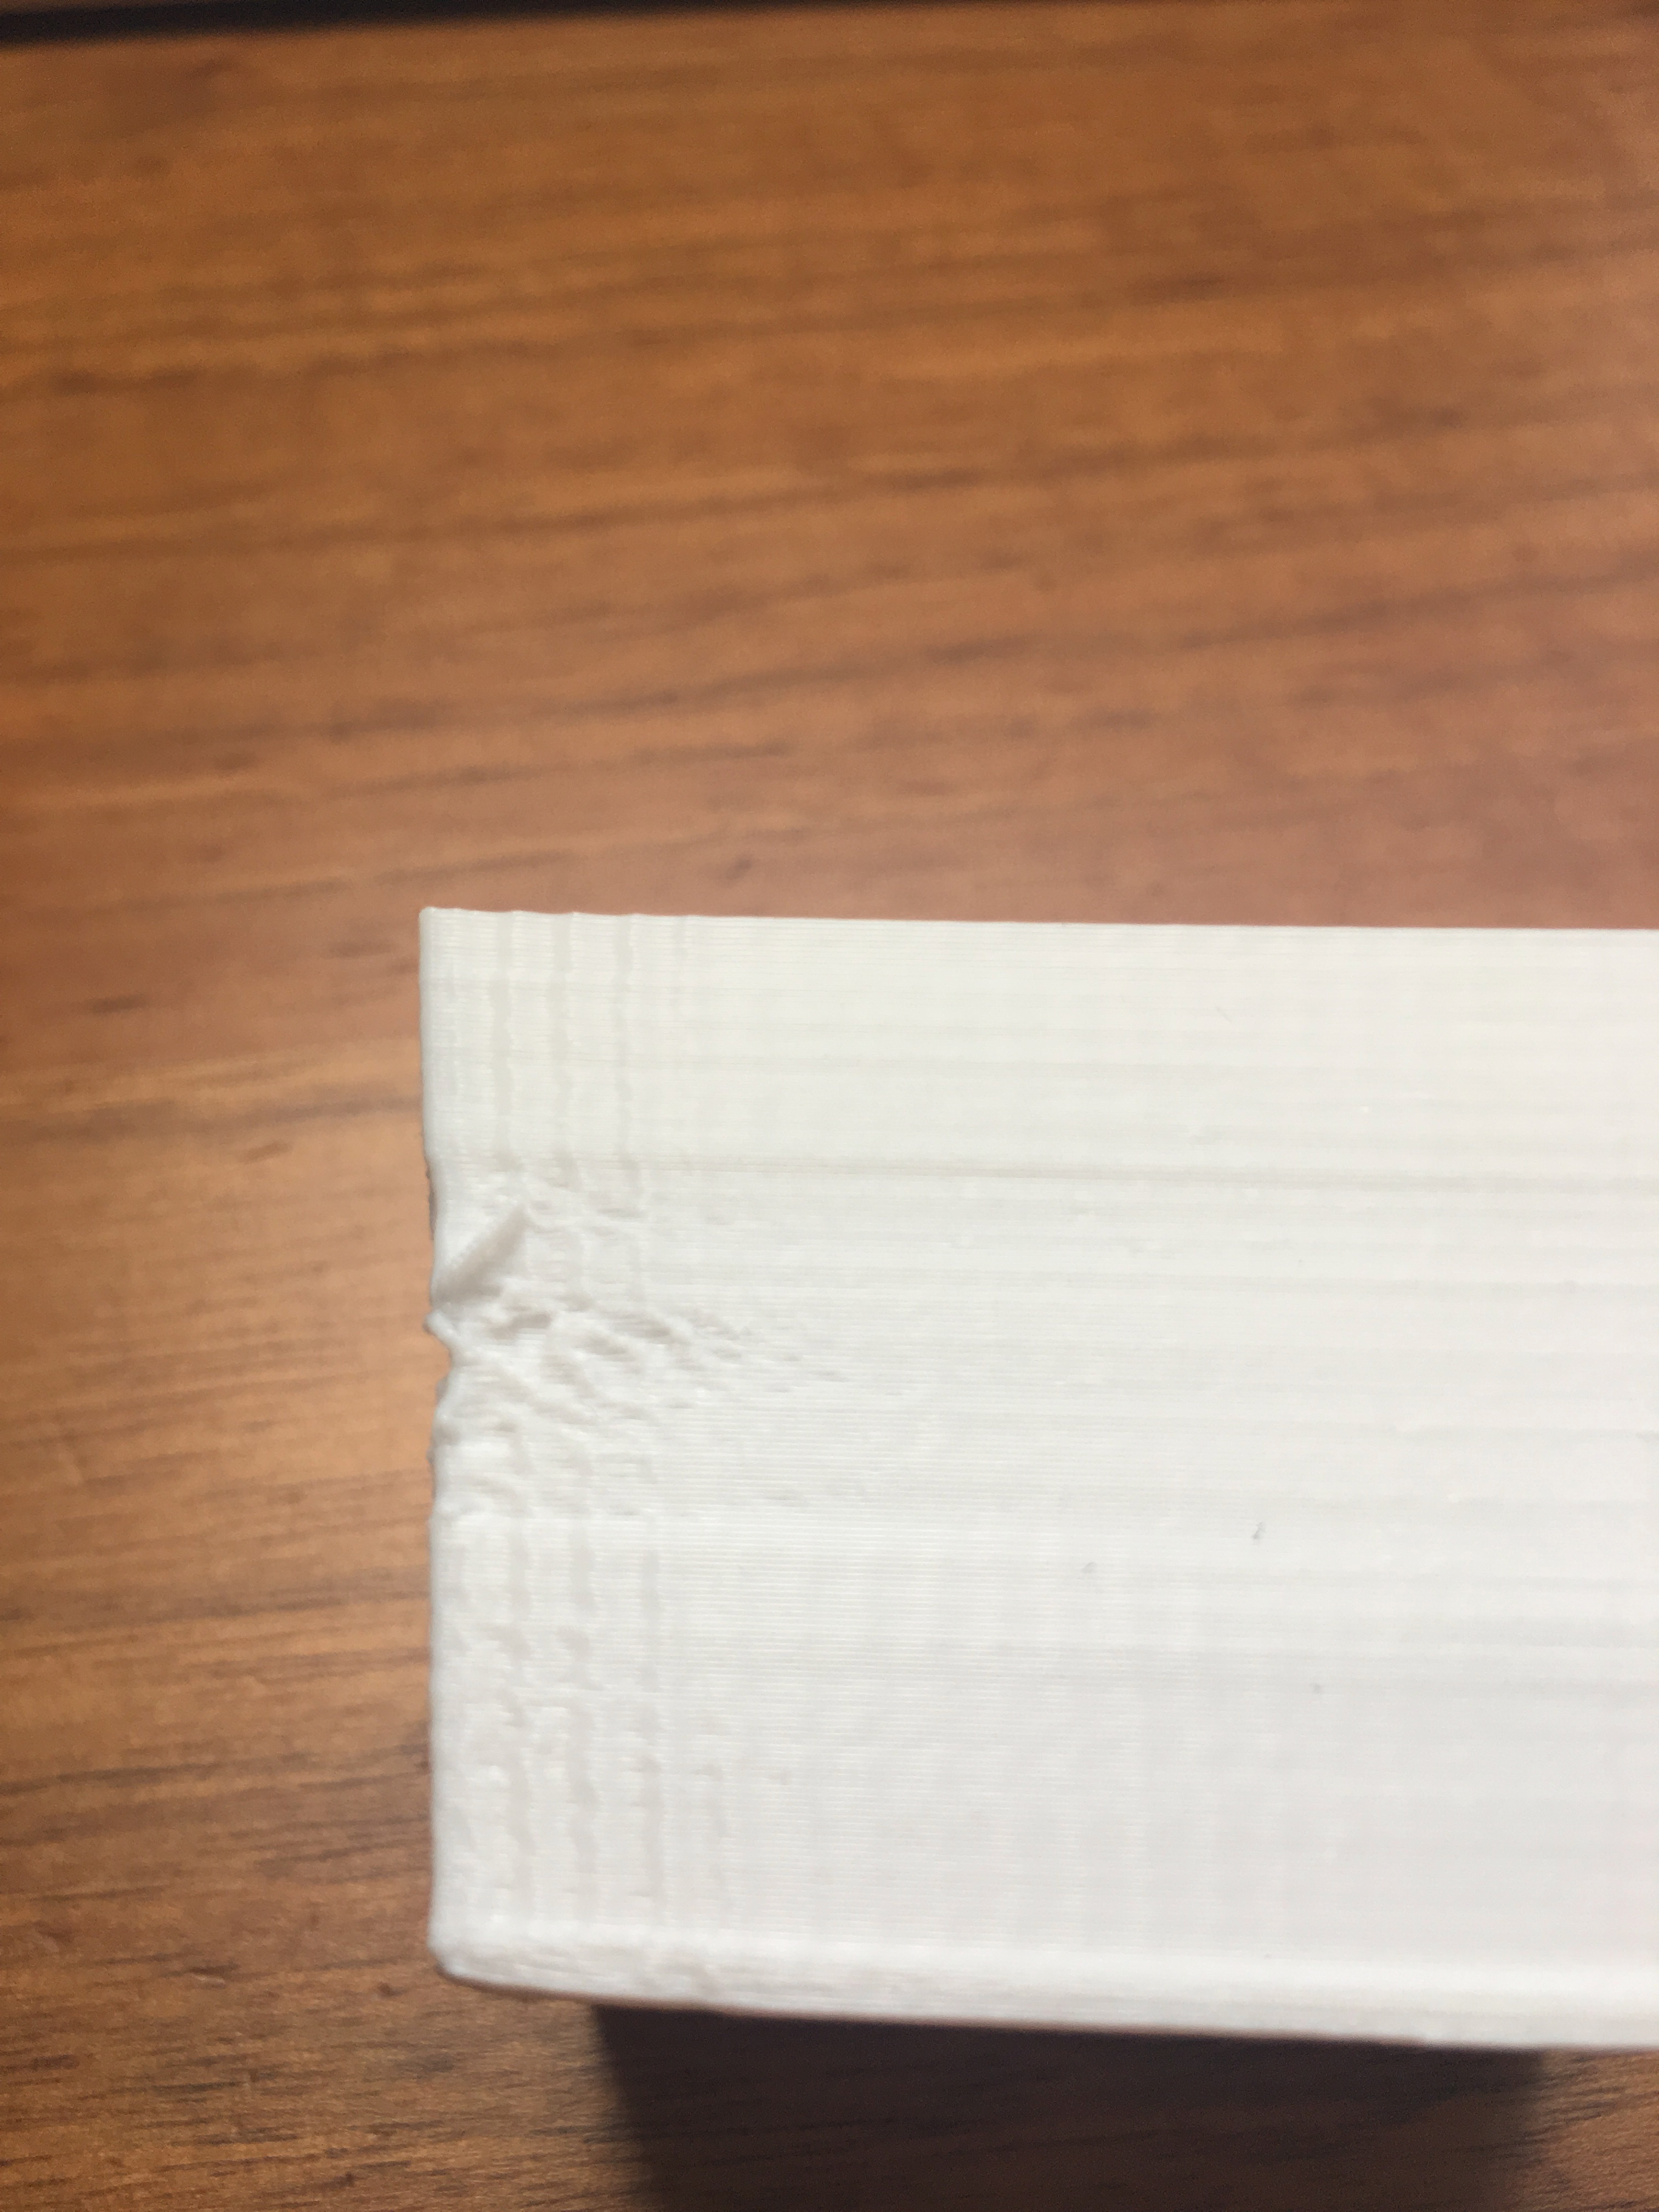3dpripples: (488, 1595, 1408, 1919), (899, 1132, 1615, 1411), (450, 954, 805, 1116)
3dpunderextrusion: (396, 1190, 889, 1527)
